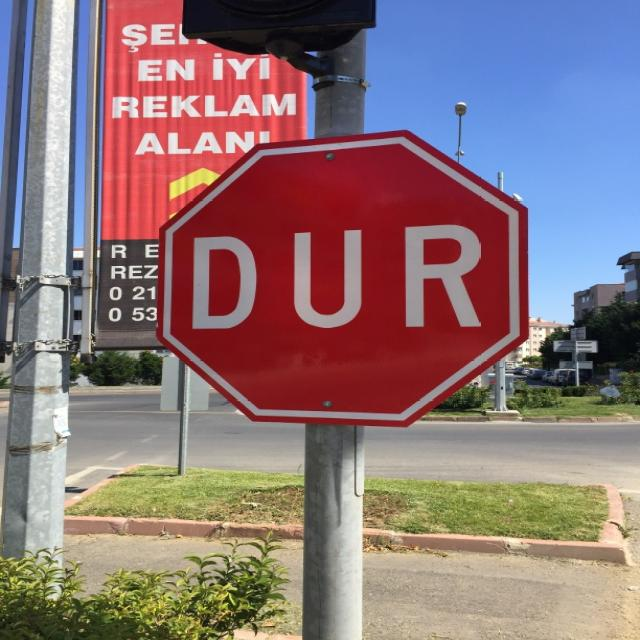dur: (157, 128, 532, 427)
